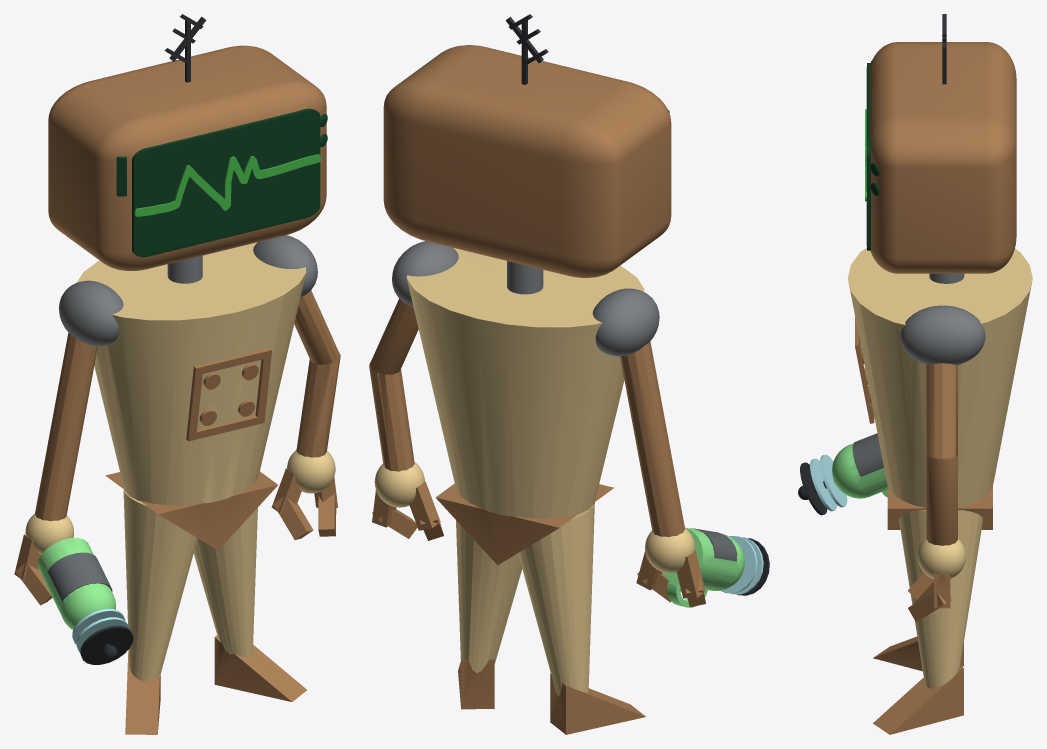
The model's file is Droid.fbx.
3 renders of one model, left to right at view 1: azimuth 30°, elevation 25°; view 2: azimuth 150°, elevation 25°; view 3: azimuth 270°, elevation 25°, orthographic. The views are drawn at different scales.
Parts seen in each view (by area): view 1: obj_0; view 2: obj_0; view 3: obj_0.
Part boxes in pixels (left/top/right/bottom): obj_0: left=14, top=14, right=340, bottom=734; obj_0: left=369, top=14, right=769, bottom=734; obj_0: left=798, top=14, right=1032, bottom=734.
Bounding box in the file's own units: 84.61 × 170 × 53.73.
